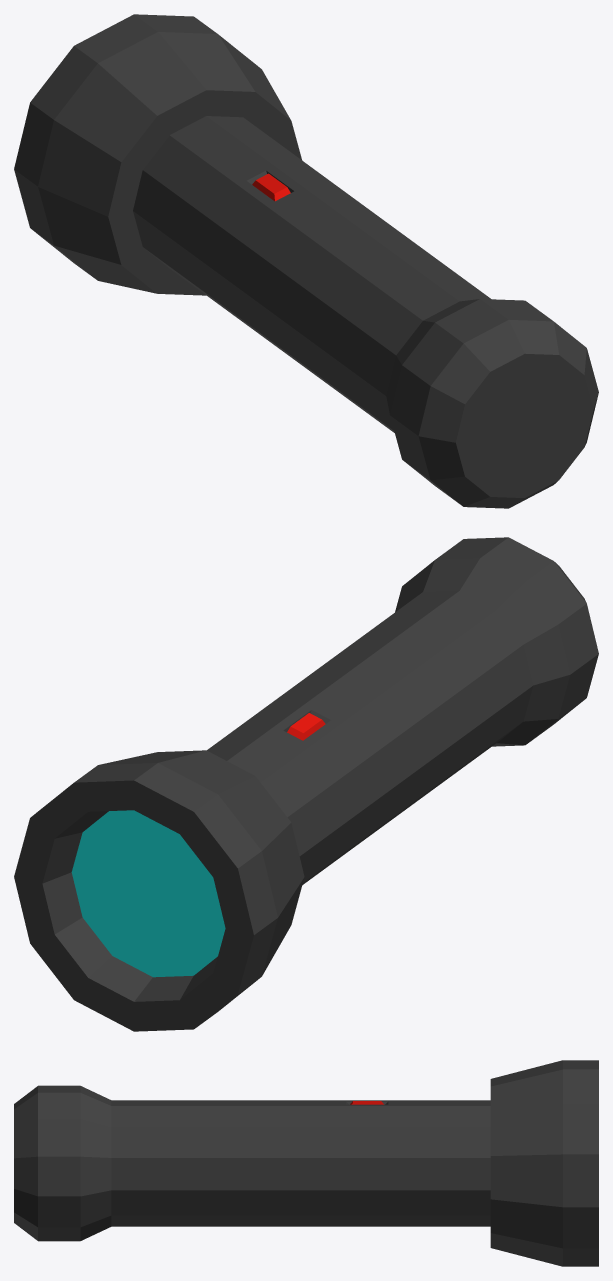
Rendered from Flashlight_Textured_Baked.fbx.
The picture shows the model from 3 angles, top to bottom: view 1: azimuth 30°, elevation 25°; view 2: azimuth 150°, elevation 25°; view 3: azimuth 270°, elevation 25°; orthographic projection. The views are drawn at different scales.
Visible parts, largest first — view 1: Flashlight; view 2: Flashlight; view 3: Flashlight.
Part boxes in pixels (x1,y1,x2,y2): Flashlight: (14,14,598,508); Flashlight: (14,537,598,1031); Flashlight: (14,1060,598,1266).
Size of the model in its own units: 9.55 by 9.55 by 26.93.
